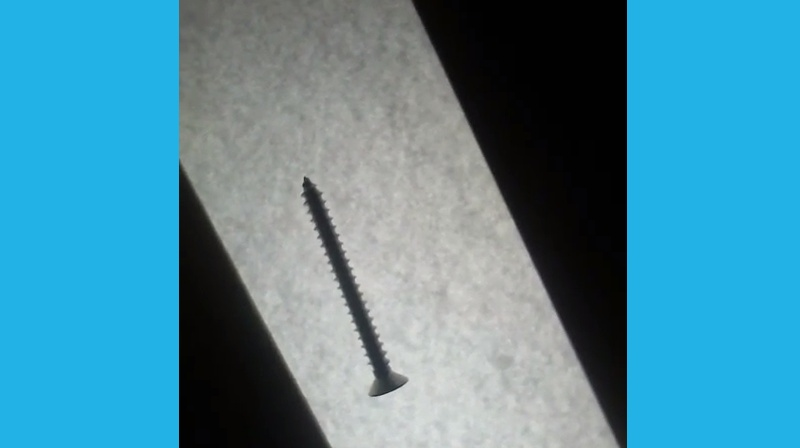S002: (295, 171, 411, 403)
